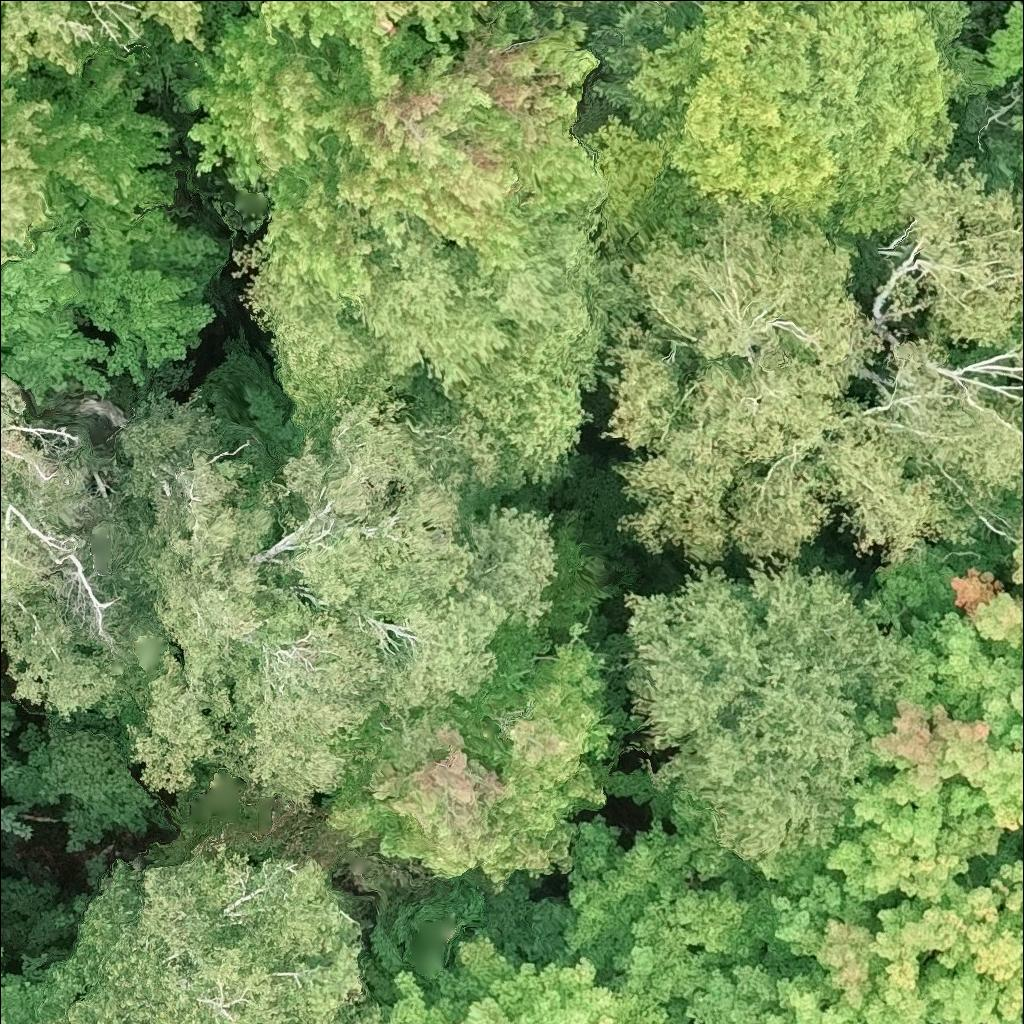crown: (596, 155, 1023, 571), (750, 539, 1023, 1023), (186, 0, 606, 300), (239, 205, 637, 504), (580, 0, 990, 244), (620, 551, 916, 868), (322, 624, 620, 891), (218, 586, 548, 808), (278, 392, 559, 640), (40, 839, 387, 1023), (565, 812, 856, 1023), (362, 870, 671, 1023), (119, 548, 290, 794), (0, 39, 185, 265), (112, 383, 277, 584), (74, 206, 225, 388), (0, 212, 118, 406), (2, 715, 158, 852), (0, 592, 130, 725), (244, 0, 501, 47), (0, 0, 83, 74), (126, 0, 212, 60), (0, 942, 54, 1023), (983, 0, 1023, 92), (531, 0, 620, 14), (1009, 101, 1023, 184), (630, 0, 674, 6), (1007, 1017, 1023, 1023)
